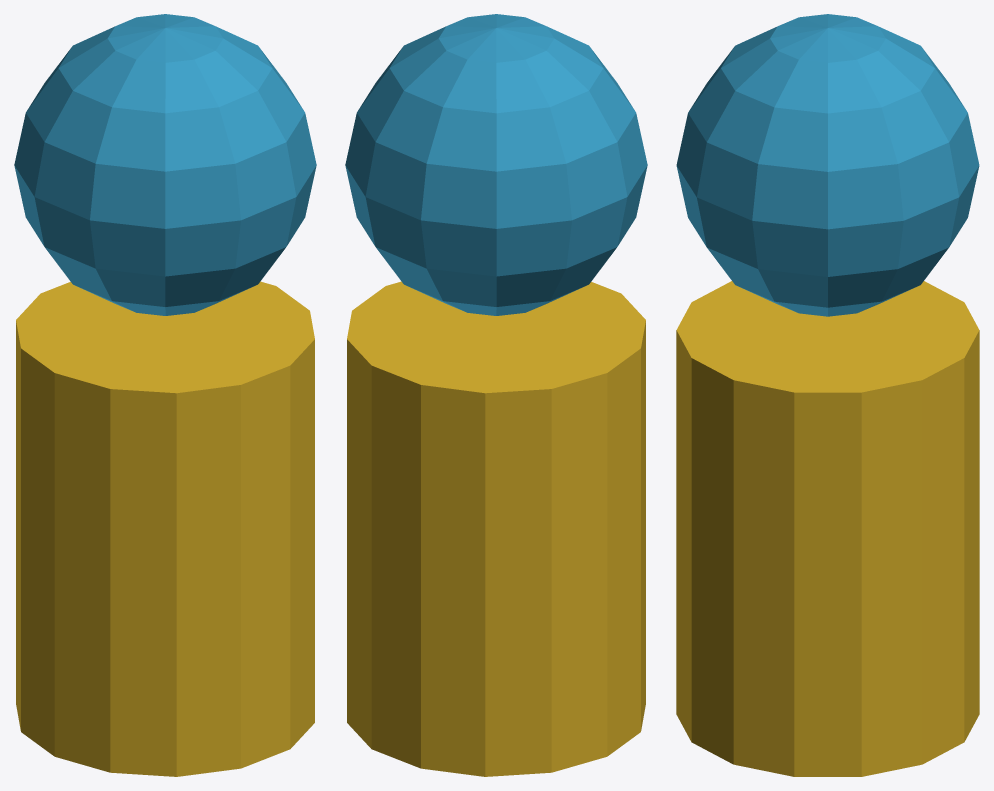
File: proximity_fuse.obj
3 renders of one model, left to right at view 1: azimuth 30°, elevation 25°; view 2: azimuth 150°, elevation 25°; view 3: azimuth 270°, elevation 25°, orthographic.
Parts seen in each view (by area): view 1: proximity_fuse; view 2: proximity_fuse; view 3: proximity_fuse.
Part boxes in pixels (left/top/right/bottom): proximity_fuse: left=14, top=14, right=316, bottom=776; proximity_fuse: left=345, top=14, right=647, bottom=776; proximity_fuse: left=676, top=14, right=979, bottom=776.
Size of the model in its own units: 0.1 by 0.25 by 0.1.
